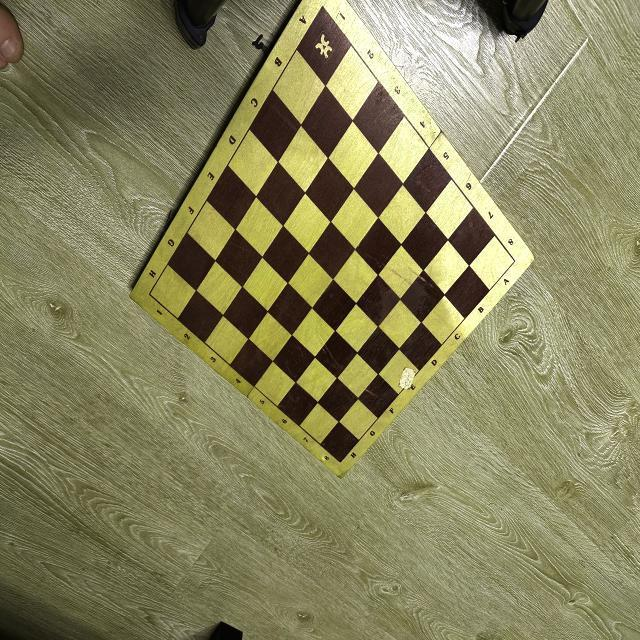chess-table-corners: (512, 257, 520, 265), (146, 290, 153, 298), (320, 1, 326, 10), (338, 458, 342, 466)
